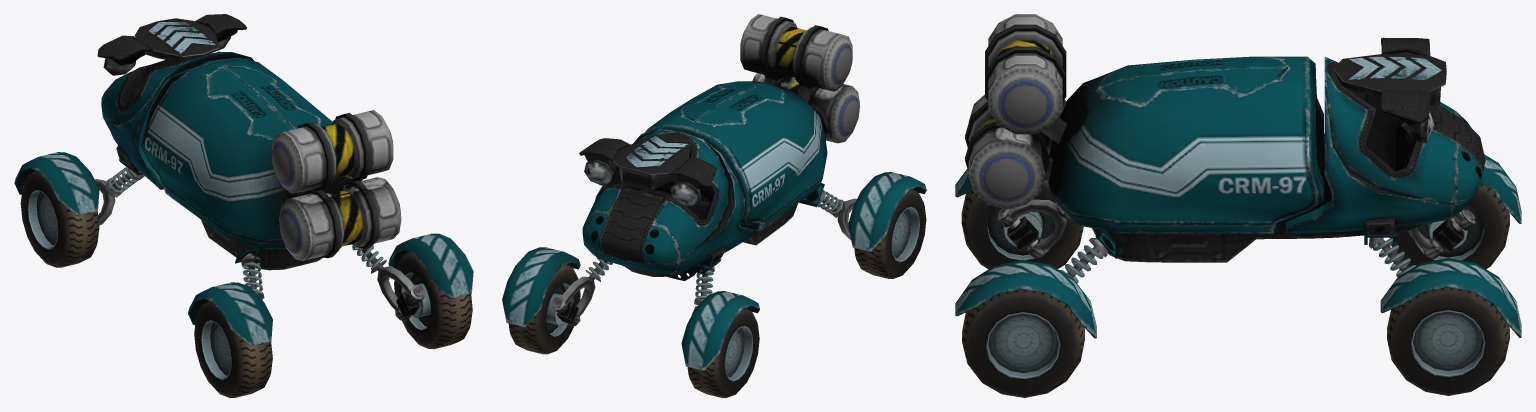
The model's file is rover.dae.
The picture shows the model from 3 angles, left to right: view 1: azimuth 30°, elevation 25°; view 2: azimuth 150°, elevation 25°; view 3: azimuth 270°, elevation 25°; orthographic projection. The views are drawn at different scales.
Parts seen in each view (by area): view 1: rover_base, wheel, wheel001, wheel003, wheel_well003, wheel_well, wheel_well001, pop_up, rear_spring_r, eye_l, front_spring_l, eye_r (+1 smaller); view 2: rover_base, wheel001, wheel, wheel_well, wheel_well001, wheel_well002, pop_up, wheel002, front_spring_r, eye_l, eye_r, rear_spring_l (+1 smaller); view 3: rover_base, wheel002, wheel003, wheel001, wheel_well002, wheel_well003, wheel, pop_up, rear_spring_l, eye_r, front_spring_l, wheel_well (+3 smaller).
Part boxes in pixels (x1,y1,x2,y2): rover_base: (101, 51, 401, 270); wheel: (20, 170, 99, 267); wheel001: (194, 301, 272, 397); wheel003: (394, 252, 472, 349); wheel_well003: (388, 233, 473, 298); wheel_well: (14, 152, 99, 215); wheel_well001: (188, 282, 272, 346); pop_up: (134, 18, 218, 60); rear_spring_r: (349, 244, 425, 320); eye_l: (97, 35, 152, 75); front_spring_l: (95, 166, 144, 225); eye_r: (195, 14, 246, 52); rover_base: (582, 14, 859, 280); wheel001: (854, 189, 926, 278); wheel: (687, 308, 759, 397); wheel_well: (681, 291, 759, 370); wheel_well001: (848, 172, 926, 251); wheel_well002: (502, 247, 580, 327); pop_up: (613, 134, 691, 190); wheel002: (508, 264, 580, 354); front_spring_r: (551, 258, 612, 326); eye_l: (669, 158, 717, 206); eye_r: (579, 138, 630, 185); rear_spring_l: (817, 189, 856, 239); rover_base: (965, 14, 1485, 262); wheel002: (1387, 287, 1509, 395); wheel003: (962, 289, 1084, 397); wheel001: (961, 180, 1083, 269); wheel_well002: (1380, 258, 1521, 337); wheel_well003: (955, 260, 1096, 338); wheel: (1389, 183, 1509, 268); pop_up: (1333, 53, 1446, 106); rear_spring_l: (997, 199, 1069, 258); eye_r: (1381, 90, 1434, 143); front_spring_l: (1409, 209, 1475, 259); wheel_well: (1480, 154, 1521, 223).
Size of the model in its own units: 1.81 by 3.04 by 1.75.
Materials: 1 (1 with a texture image).
